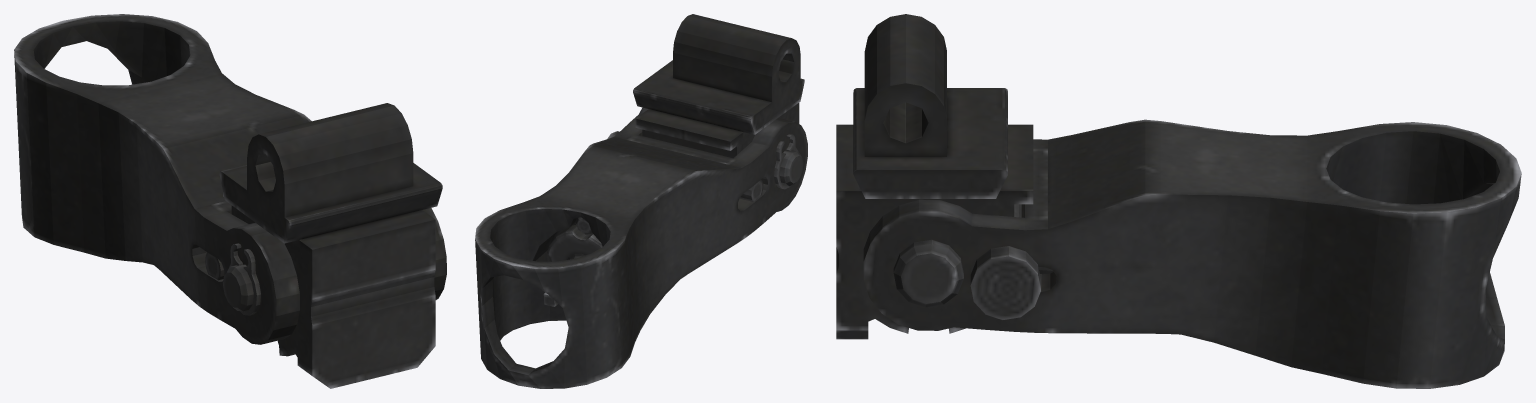
3 views of the same model, side by side, from view 1: azimuth 30°, elevation 25°; view 2: azimuth 150°, elevation 25°; view 3: azimuth 270°, elevation 25° (orthographic). The views are drawn at different scales.
Visible parts, largest first — view 1: TW_61816fcad92c473c770215cc_folded_PZ_Import; view 2: TW_61816fcad92c473c770215cc_folded_PZ_Import; view 3: TW_61816fcad92c473c770215cc_folded_PZ_Import.
Boxes of the visible parts, box(x1,y1,x2,y2) form: TW_61816fcad92c473c770215cc_folded_PZ_Import: box(14, 14, 446, 388); TW_61816fcad92c473c770215cc_folded_PZ_Import: box(475, 14, 807, 388); TW_61816fcad92c473c770215cc_folded_PZ_Import: box(836, 14, 1521, 388).
Size of the model in its own units: 0.0126 by 0.0332 by 0.0159.
Materials: 1 (1 with a texture image).
